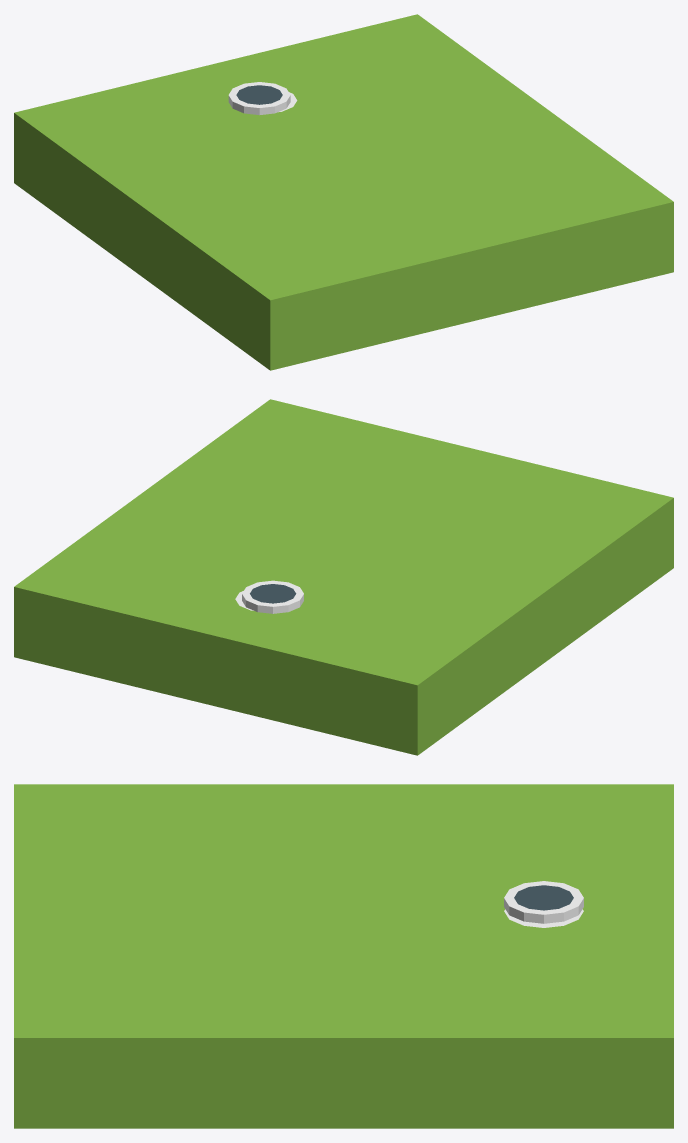
3 renders of one model, top to bottom at view 1: azimuth 30°, elevation 25°; view 2: azimuth 150°, elevation 25°; view 3: azimuth 270°, elevation 25°, orthographic. The views are drawn at different scales.
Visible parts, largest first — view 1: mesh_285045155, mesh_2133455549, mesh_2123501540; view 2: mesh_285045155, mesh_2133455549, mesh_2123501540; view 3: mesh_285045155, mesh_2133455549, mesh_2123501540.
Part boxes in pixels (x1,y1,x2,y2): mesh_285045155: (14,14,673,370); mesh_2133455549: (228,82,290,115); mesh_2123501540: (236,85,282,104); mesh_285045155: (14,399,673,755); mesh_2133455549: (242,580,303,613); mesh_2123501540: (250,584,296,603); mesh_285045155: (14,784,673,1128); mesh_2133455549: (504,881,583,923); mesh_2123501540: (514,885,573,910).
Bounding box in the file's own units: 60 × 11 × 66.
